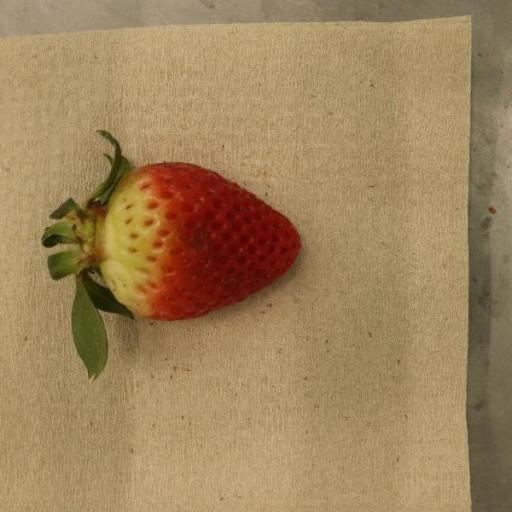Strawberry: (41, 130, 303, 322)
